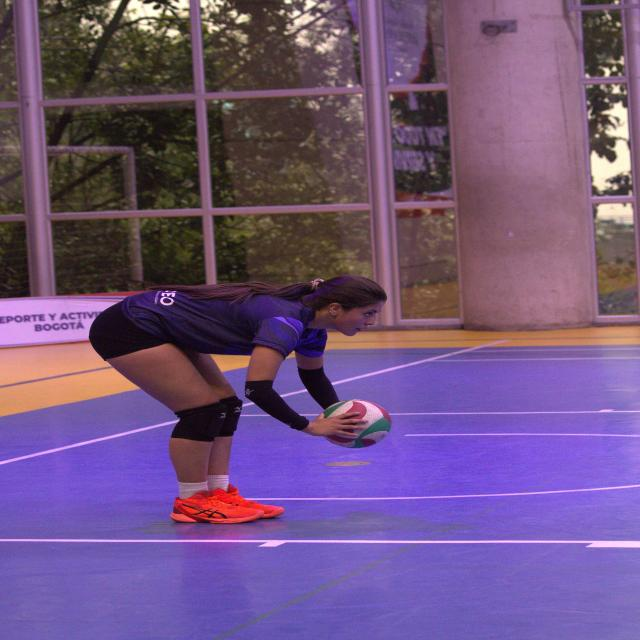volleyball: (324, 398, 391, 449)
